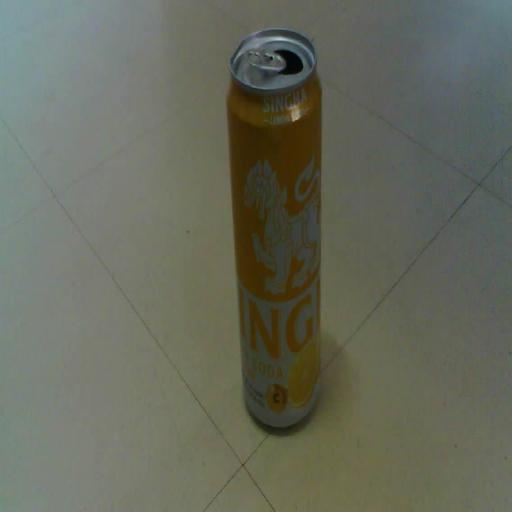canned: (225, 18, 327, 442)
